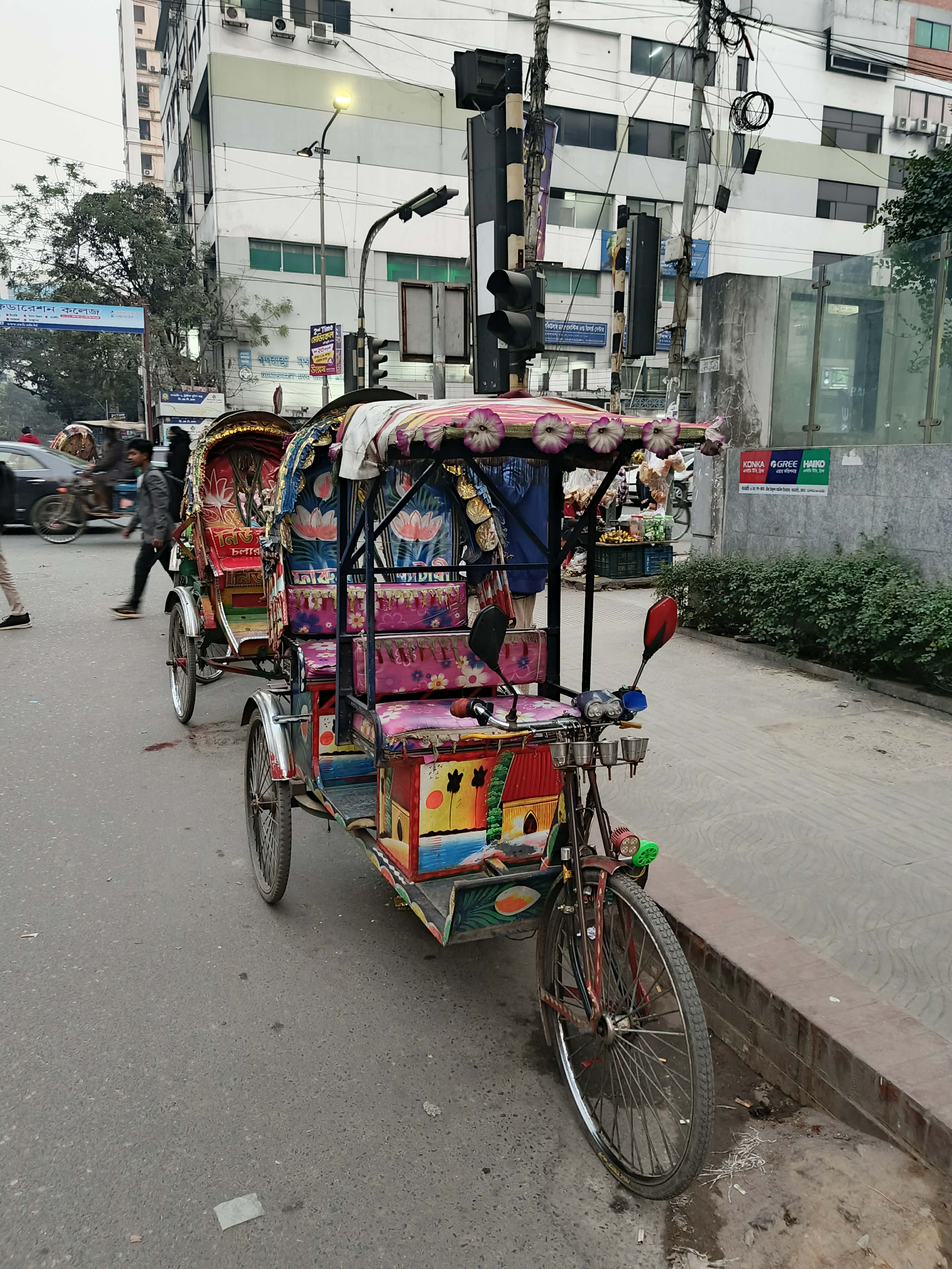auto-ricksaw: (228, 382, 758, 1201), (162, 398, 306, 730)
